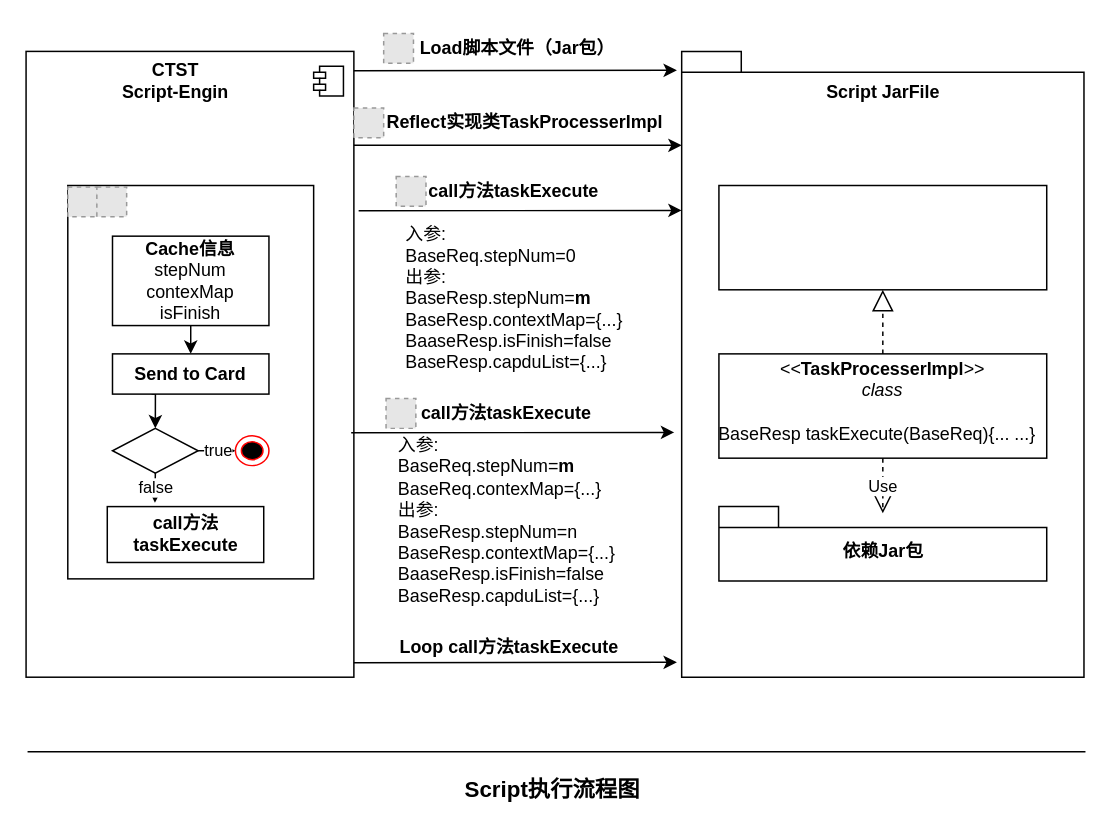
Some shapes in this 1113 by 836 pixel diagram are drawn without their labels. Grey dashed boxes stand in for pictures. Each missing label, with the centre of its shape:
<< TaskProcesser >> Interface BaseResp taskExecute(BaseReq): point 882,237
isFinish: point 154,450
